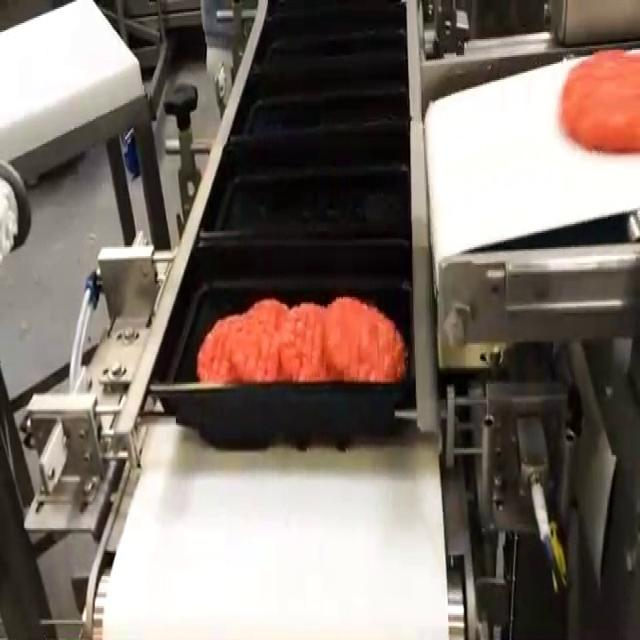4-hamburguer: (198, 297, 405, 380)
